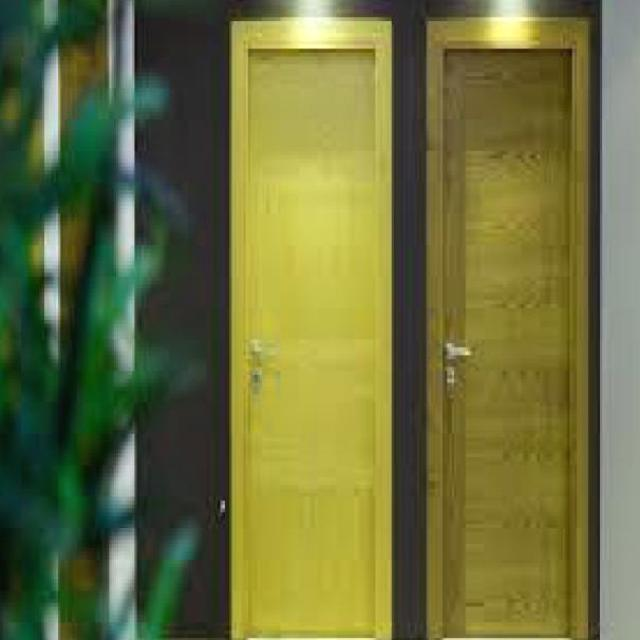door: (228, 15, 393, 638), (428, 18, 588, 640)
